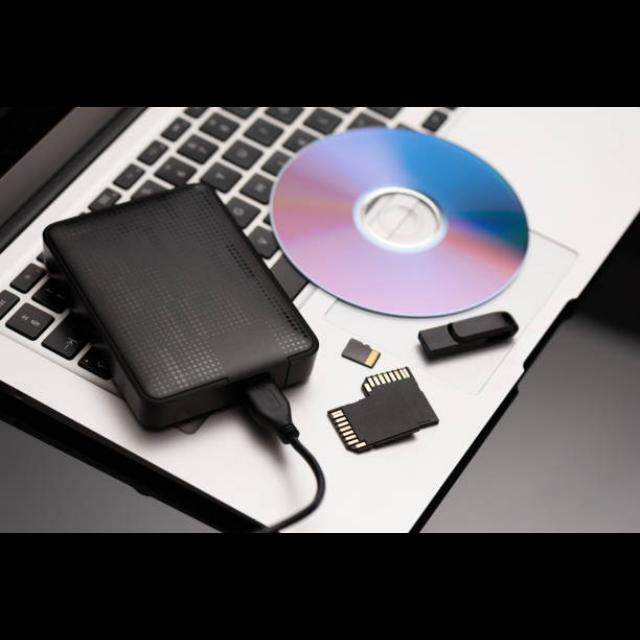HDD: (41, 183, 319, 430)
